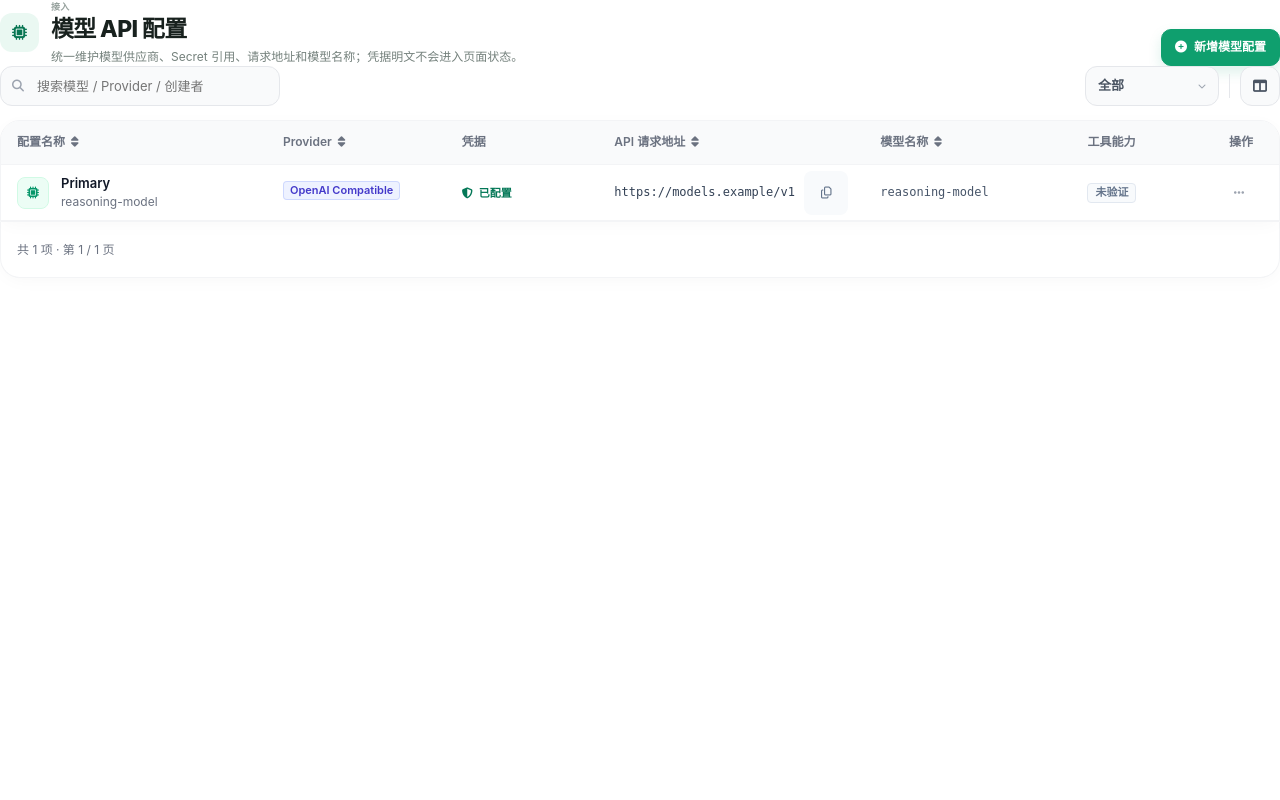
Test case: model config v1 behavior › requires an API key when creating a model configuration
Click the button "新增模型配置": {"x": 1220, "y": 47} [1161,29,1279,66]
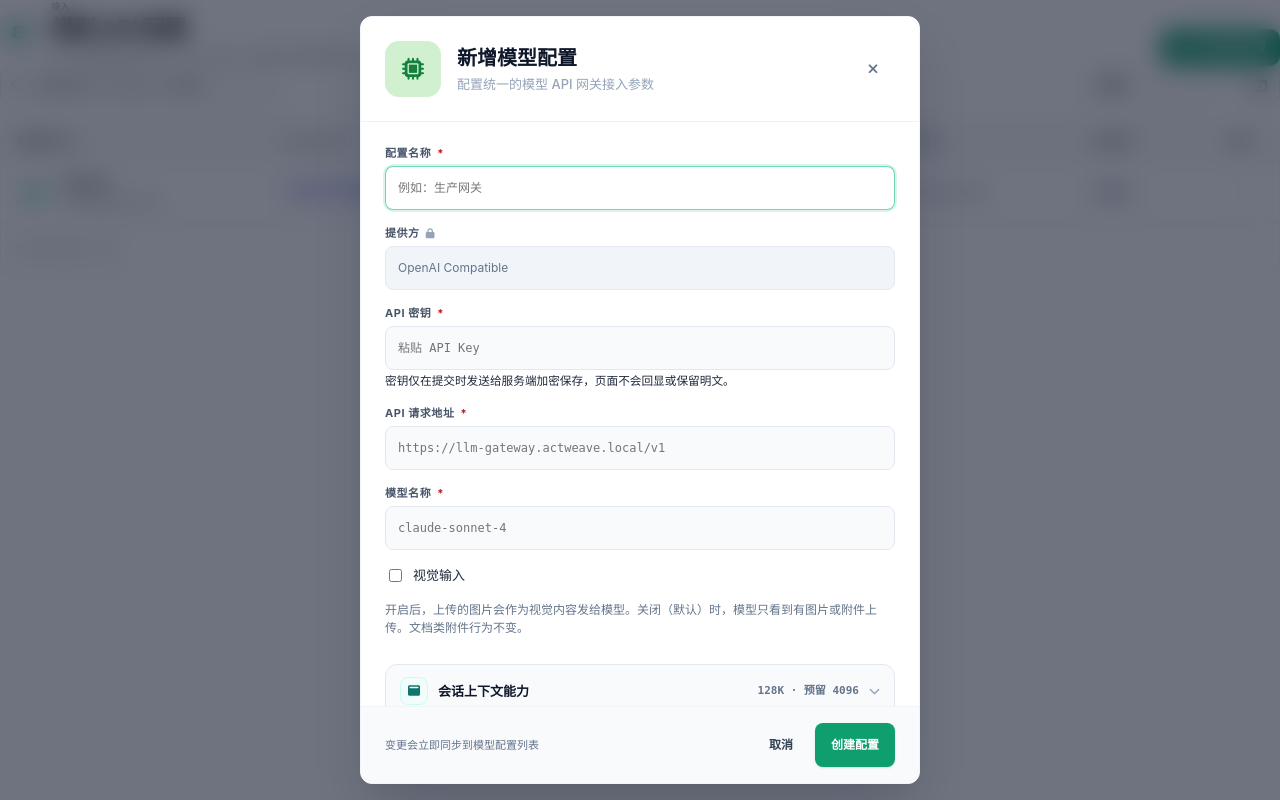
Click the button "创建配置": {"x": 855, "y": 745} [815,723,895,767]
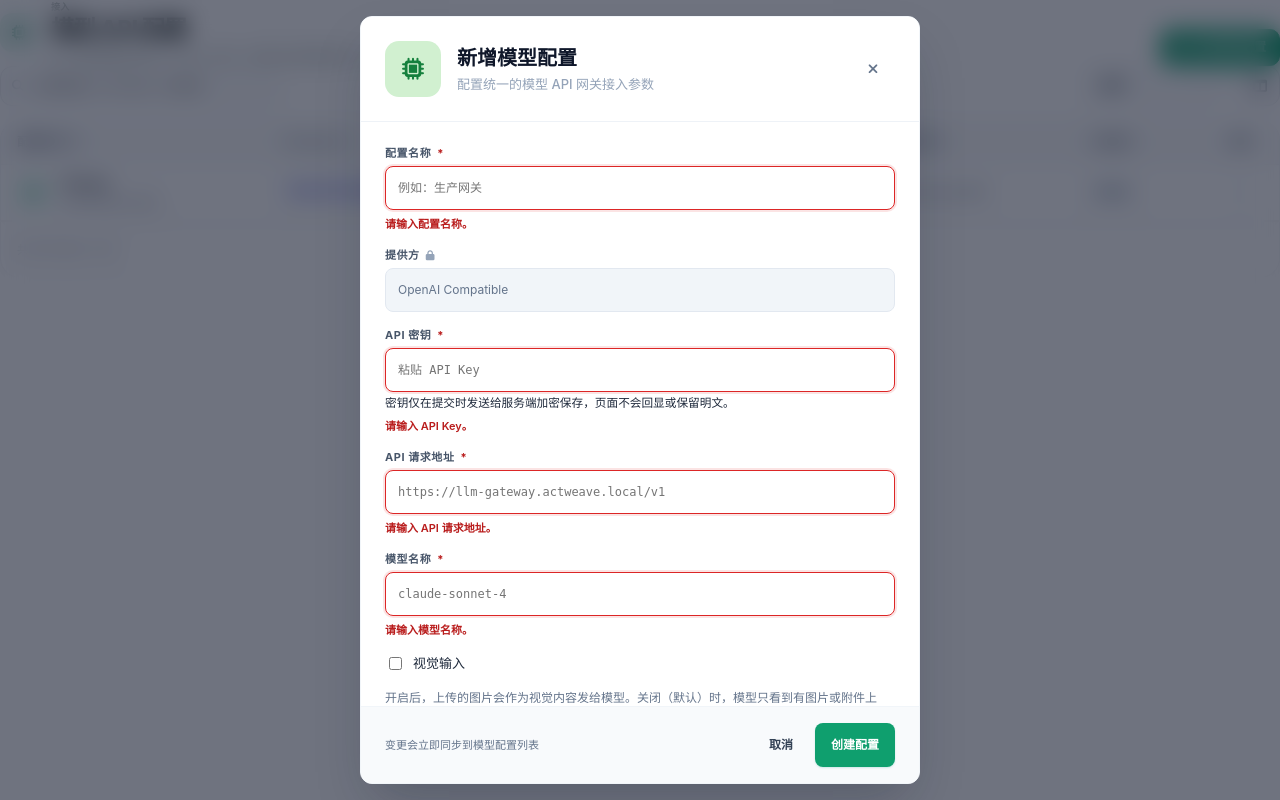
expect the text "请输入 API Key" is shown: met, box [385,419,473,433]
